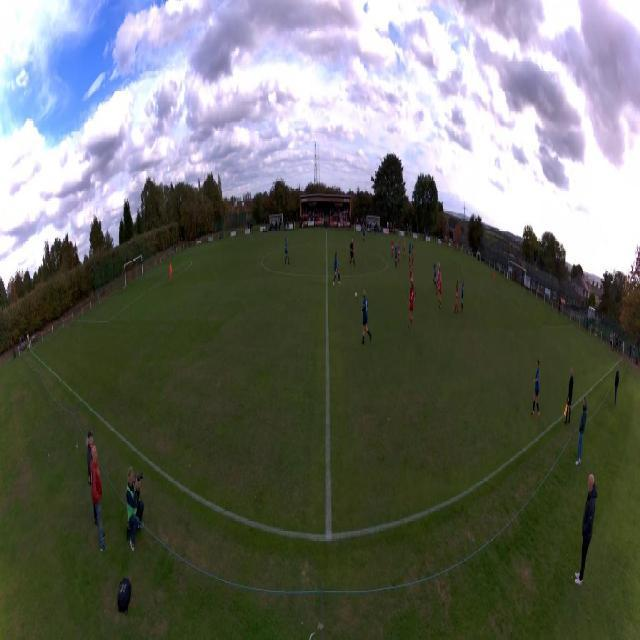ball: (355, 292, 358, 298)
player: (362, 289, 372, 345), (407, 284, 415, 330), (332, 251, 342, 287), (409, 264, 416, 296), (350, 239, 356, 267), (284, 238, 290, 265), (438, 272, 442, 309), (460, 277, 464, 314), (349, 240, 356, 261), (454, 280, 458, 314), (436, 263, 440, 295), (433, 260, 437, 288), (394, 243, 398, 269), (411, 245, 414, 271), (398, 243, 401, 265), (170, 263, 173, 285), (408, 241, 411, 262), (391, 238, 394, 258), (403, 242, 406, 259), (363, 225, 366, 242), (494, 270, 496, 287)
